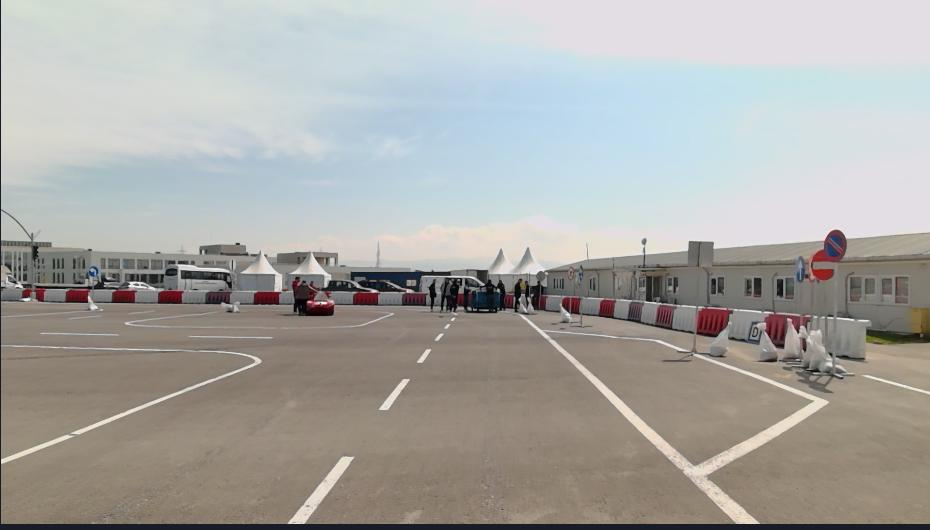nesne: (0, 301, 767, 524), (284, 312, 764, 523), (0, 310, 460, 524), (519, 314, 762, 523), (533, 325, 832, 485), (544, 327, 829, 477), (0, 342, 262, 464), (542, 291, 872, 360), (123, 307, 396, 327), (0, 288, 291, 305), (286, 454, 353, 523), (804, 315, 867, 356), (798, 322, 841, 370), (161, 263, 234, 288), (722, 308, 769, 341), (765, 312, 813, 344), (727, 309, 772, 340), (692, 305, 730, 334), (376, 378, 410, 410), (754, 321, 781, 361), (780, 315, 803, 358), (706, 320, 731, 356), (823, 226, 847, 262), (303, 288, 334, 315), (810, 250, 838, 279), (673, 305, 697, 332), (477, 278, 496, 312), (38, 330, 118, 337), (655, 302, 676, 328), (297, 278, 311, 315), (638, 300, 659, 324), (542, 294, 566, 313), (186, 334, 274, 339), (88, 286, 115, 302), (579, 297, 603, 315), (42, 286, 67, 303), (746, 320, 764, 342), (254, 291, 280, 306), (135, 288, 159, 304), (513, 274, 523, 312), (378, 291, 405, 305), (614, 298, 632, 319), (628, 298, 643, 323), (448, 277, 459, 311), (439, 274, 449, 310), (291, 272, 300, 311), (181, 289, 206, 303), (401, 291, 426, 305), (495, 278, 505, 312), (230, 290, 256, 303), (329, 291, 353, 305), (353, 291, 377, 305), (67, 288, 89, 303), (600, 295, 615, 317), (205, 290, 230, 303), (562, 295, 579, 314), (111, 289, 135, 302), (157, 289, 181, 302), (22, 288, 44, 302), (427, 278, 436, 312), (414, 346, 432, 363), (463, 278, 472, 310), (0, 287, 22, 300), (558, 301, 571, 322), (278, 290, 294, 305), (520, 295, 532, 312), (431, 331, 444, 342), (87, 265, 99, 276), (442, 322, 452, 329), (449, 315, 454, 322)
